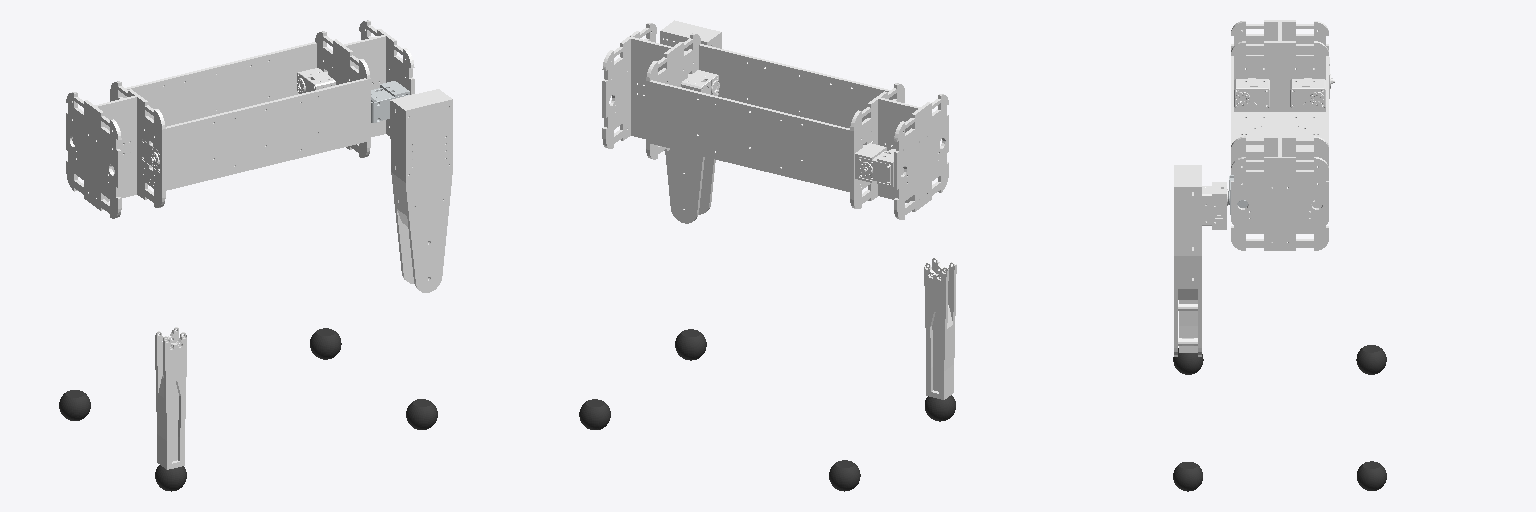
robot.urdf — hotdog:
<?xml version="1.0" encoding="utf-8"?>
<!-- This URDF was automatically created by SolidWorks to URDF Exporter! Originally created by Stephen Brawner ([email redacted]) 
     Commit Version: 1.6.0-1-g15f4949  Build Version: 1.6.7594.29634
     For more information, please see http://wiki.ros.org/sw_urdf_exporter -->
<robot
  name="hotdog">
  <link
    name="base_footprint_link">
    <inertial>
      <origin
        xyz="-6.5684535257726E-07 -5.68625826943039E-16 0.331904075260688"
        rpy="0 0 0" />
      <mass
        value="0.94714877441203" />
      <inertia
        ixx="0.00156805076680093"
        ixy="-4.04417685042527E-18"
        ixz="-1.07156180552169E-09"
        iyy="0.00467978185671069"
        iyz="1.05204051443102E-18"
        izz="0.00464373853240198" />
    </inertial>
    <visual>
      <origin
        xyz="0 0 0"
        rpy="0 0 0" />
      <geometry>
        <mesh
          filename="package://guiderobotdog_description/meshes/base_footprint_link.STL" />
      </geometry>
      <material
        name="">
        <color
          rgba="1 1 1 0.3" />
      </material>
    </visual>
    <collision>
      <origin
        xyz="0 0 0"
        rpy="0 0 0" />
      <geometry>
        <mesh
          filename="package://guiderobotdog_description/meshes/base_footprint_link.STL" />
      </geometry>
    </collision>
  </link>
  <link
    name="base_link">
    <inertial>
      <origin
        xyz="-5.37004284930829E-07 -8.85973754038104E-16 0.0331211817986433"
        rpy="0 0 0" />
      <mass
        value="1.15852013355761" />
      <inertia
        ixx="0.00161866128869471"
        ixy="-4.05306861158348E-18"
        ixz="-1.07156180552086E-09"
        iyy="0.00471344940362746"
        iyz="1.05084288143918E-18"
        izz="0.00470124275078615" />
    </inertial>
    <visual>
      <origin
        xyz="0 0 0"
        rpy="0 0 0" />
      <geometry>
        <mesh
          filename="package://guiderobotdog_description/meshes/base_link.STL" />
      </geometry>
      <material
        name="">
        <color
          rgba="1 1 1 0.3" />
      </material>
    </visual>
    <collision>
      <origin
        xyz="0 0 0"
        rpy="0 0 0" />
      <geometry>
        <mesh
          filename="package://guiderobotdog_description/meshes/base_link.STL" />
      </geometry>
    </collision>
  </link>
  <joint
    name="base_link_joint"
    type="fixed">
    <origin
      xyz="0 0 0.3"
      rpy="0 0 0" />
    <parent
      link="base_footprint_link" />
    <child
      link="base_link" />
    <axis
      xyz="0 0 0" />
  </joint>
  <link
    name="FR1_link">
    <inertial>
      <origin
        xyz="0.024784 -1.0469E-05 -2.2229E-05"
        rpy="0 0 0" />
      <mass
        value="0.067553" />
      <inertia
        ixx="1.2584E-05"
        ixy="9.7813E-08"
        ixz="-1.6315E-08"
        iyy="1.514E-05"
        iyz="-4.0759E-09"
        izz="1.7075E-05" />
    </inertial>
    <visual>
      <origin
        xyz="0 0 0"
        rpy="0 0 0" />
      <geometry>
        <mesh
          filename="package://guiderobotdog_description/meshes/FR1_link.STL" />
      </geometry>
      <material
        name="">
        <color
          rgba="0.89804 0.91765 0.92941 1" />
      </material>
    </visual>
    <collision>
      <origin
        xyz="0 0 0"
        rpy="0 0 0" />
      <geometry>
        <mesh
          filename="package://guiderobotdog_description/meshes/FR1_link.STL" />
      </geometry>
    </collision>
  </link>
  <joint
    name="motor_front_right_hip"
    type="revolute">
    <origin
      xyz="0.1579 -0.0491 0.0385"
      rpy="0 0 0" />
    <parent
      link="base_link" />
    <child
      link="FR1_link" />
    <axis
      xyz="1 0 0" />
    <limit
      lower="-1.04"
      upper="1.04"
      effort="1000"
      velocity="0.7" />
  </joint>
  <link
    name="FR2_link">
    <inertial>
      <origin
        xyz="4.3562E-06 -0.039485 -0.070702"
        rpy="0 0 0" />
      <mass
        value="0.39532" />
      <inertia
        ixx="0.0016371"
        ixy="-1.4579E-08"
        ixz="6.2884E-08"
        iyy="0.0017598"
        iyz="-2.364E-05"
        izz="0.00015914" />
    </inertial>
    <visual>
      <origin
        xyz="0 0 0"
        rpy="0 0 0" />
      <geometry>
        <mesh
          filename="package://guiderobotdog_description/meshes/FR2_link.STL" />
      </geometry>
      <material
        name="">
        <color
          rgba="1 1 1 1" />
      </material>
    </visual>
    <collision>
      <origin
        xyz="0 0 0"
        rpy="0 0 0" />
      <geometry>
        <mesh
          filename="package://guiderobotdog_description/meshes/FR2_link.STL" />
      </geometry>
    </collision>
  </link>
  <joint
    name="motor_front_right_upper_leg"
    type="revolute">
    <origin
      xyz="0.0361 -0.0233999999999976 0"
      rpy="0 0 0" />
    <parent
      link="FR1_link" />
    <child
      link="FR2_link" />
    <axis
      xyz="0 1 0" />
    <limit
      lower="-1.571"
      upper="2.59"
      effort="1000"
      velocity="0.7" />
  </joint>
  <link
    name="FR3_link">
    <inertial>
      <origin
        xyz="3.7529E-08 -0.0074017 -0.10236"
        rpy="0 0 0" />
      <mass
        value="0.090352" />
      <inertia
        ixx="0.00022227"
        ixy="1.0154E-11"
        ixz="2.7851E-10"
        iyy="0.00022376"
        iyz="1.6738E-08"
        izz="1.1523E-05" />
    </inertial>
    <visual>
      <origin
        xyz="0 0 0"
        rpy="0 0 0" />
      <geometry>
        <mesh
          filename="package://guiderobotdog_description/meshes/FR3_link.STL" />
      </geometry>
      <material
        name="">
        <color
          rgba="1 1 1 1" />
      </material>
    </visual>
    <collision>
      <origin
        xyz="0 0 0"
        rpy="0 0 0" />
      <geometry>
        <mesh
          filename="package://guiderobotdog_description/meshes/FR3_link.STL" />
      </geometry>
    </collision>
  </link>
  <joint
    name="motor_front_right_lower_leg"
    type="revolute">
    <origin
      xyz="0 -0.0413999999999994 -0.209999999999993"
      rpy="0 0 0" />
    <parent
      link="FR2_link" />
    <child
      link="FR3_link" />
    <axis
      xyz="0 -1 0" />
    <limit
      lower="-2.9"
      upper="1.671"
      effort="1000"
      velocity="0.7" />
  </joint>
  <link
    name="front_right_foot">
    <inertial>
      <origin
        xyz="-6.6613E-16 1.4433E-15 0.0015002"
        rpy="0 0 0" />
      <mass
        value="0.032571" />
      <inertia
        ixx="5.047E-06"
        ixy="-5.0734E-22"
        ixz="1.352E-22"
        iyy="5.0467E-06"
        iyz="-1.4225E-21"
        izz="5.3157E-06" />
    </inertial>
    <visual>
      <origin
        xyz="0 0 0"
        rpy="0 0 0" />
      <geometry>
        <mesh
          filename="package://guiderobotdog_description/meshes/front_right_foot.STL" />
      </geometry>
      <material
        name="">
        <color
          rgba="0.29804 0.29804 0.29804 1" />
      </material>
    </visual>
    <collision>
      <origin
        xyz="0 0 0"
        rpy="0 0 0" />
      <geometry>
        <mesh
          filename="package://guiderobotdog_description/meshes/front_right_foot.STL" />
      </geometry>
    </collision>
  </link>
  <joint
    name="front_right_leg_foot"
    type="fixed">
    <origin
      xyz="0 -0.00739999999999999 -0.198000586455477"
      rpy="0 0 0" />
    <parent
      link="FR3_link" />
    <child
      link="front_right_foot" />
    <axis
      xyz="0 0 0" />
  </joint>
  <link
    name="FL4_link">
    <inertial>
      <origin
        xyz="0.0247841447425314 1.04692997031988E-05 2.22286183791942E-05"
        rpy="0 0 0" />
      <mass
        value="0.0675532787220811" />
      <inertia
        ixx="1.25839581231577E-05"
        ixy="-9.78129344167742E-08"
        ixz="1.63152405935888E-08"
        iyy="1.5140307434958E-05"
        iyz="-4.07589457904991E-09"
        izz="1.70746458531424E-05" />
    </inertial>
    <visual>
      <origin
        xyz="0 0 0"
        rpy="0 0 0" />
      <geometry>
        <mesh
          filename="package://guiderobotdog_description/meshes/FL4_link.STL" />
      </geometry>
      <material
        name="">
        <color
          rgba="0.898039215686275 0.917647058823529 0.929411764705882 1" />
      </material>
    </visual>
    <collision>
      <origin
        xyz="0 0 0"
        rpy="0 0 0" />
      <geometry>
        <mesh
          filename="package://guiderobotdog_description/meshes/FL4_link.STL" />
      </geometry>
    </collision>
  </link>
  <joint
    name="motor_front_left_hip"
    type="revolute">
    <origin
      xyz="0.1579 0.0490999999999959 0.0387999999999899"
      rpy="0 0 0" />
    <parent
      link="base_link" />
    <child
      link="FL4_link" />
    <axis
      xyz="1 0 0" />
    <limit
      lower="-1.04"
      upper="1.04"
      effort="1000"
      velocity="0.7" />
  </joint>
  <link
    name="FL5_link">
    <inertial>
      <origin
        xyz="-4.35616069133227E-06 0.0394850128833005 -0.0707022962699911"
        rpy="0 0 0" />
      <mass
        value="0.395321397887757" />
      <inertia
        ixx="0.00163713814608113"
        ixy="-1.45788089578397E-08"
        ixz="-6.28841253115549E-08"
        iyy="0.00175975062383322"
        iyz="2.36404618665139E-05"
        izz="0.000159141442838076" />
    </inertial>
    <visual>
      <origin
        xyz="0 0 0"
        rpy="0 0 0" />
      <geometry>
        <mesh
          filename="package://guiderobotdog_description/meshes/FL5_link.STL" />
      </geometry>
      <material
        name="">
        <color
          rgba="1 1 1 1" />
      </material>
    </visual>
    <collision>
      <origin
        xyz="0 0 0"
        rpy="0 0 0" />
      <geometry>
        <mesh
          filename="package://guiderobotdog_description/meshes/FL5_link.STL" />
      </geometry>
    </collision>
  </link>
  <joint
    name="motor_front_left_upper_leg"
    type="revolute">
    <origin
      xyz="0.0360999999999954 0.0234000000000044 0"
      rpy="0 0 0" />
    <parent
      link="FL4_link" />
    <child
      link="FL5_link" />
    <axis
      xyz="0 -1 0" />
    <limit
      lower="-1.571"
      upper="2.59"
      effort="1000"
      velocity="0.7" />
  </joint>
  <link
    name="FL6_link">
    <inertial>
      <origin
        xyz="3.75285352793853E-08 0.00739826798017804 -0.102361671813913"
        rpy="0 0 0" />
      <mass
        value="0.0903520455444552" />
      <inertia
        ixx="0.000222269756294016"
        ixy="1.01536103196166E-11"
        ixz="2.78508257222559E-10"
        iyy="0.000223759447255601"
        iyz="1.67376488552958E-08"
        izz="1.15226778599831E-05" />
    </inertial>
    <visual>
      <origin
        xyz="0 0 0"
        rpy="0 0 0" />
      <geometry>
        <mesh
          filename="package://guiderobotdog_description/meshes/FL6_link.STL" />
      </geometry>
      <material
        name="">
        <color
          rgba="1 1 1 1" />
      </material>
    </visual>
    <collision>
      <origin
        xyz="0 0 0"
        rpy="0 0 0" />
      <geometry>
        <mesh
          filename="package://guiderobotdog_description/meshes/FL6_link.STL" />
      </geometry>
    </collision>
  </link>
  <joint
    name="motor_front_left_lower_leg"
    type="revolute">
    <origin
      xyz="0 0.0414000000000007 -0.209999999999995"
      rpy="0 0 0" />
    <parent
      link="FL5_link" />
    <child
      link="FL6_link" />
    <axis
      xyz="0 1 0" />
    <limit
      lower="-2.9"
      upper="1.671"
      effort="1000"
      velocity="0.7" />
  </joint>
  <link
    name="front_left_foot">
    <inertial>
      <origin
        xyz="2.77555756156289E-17 3.60822483003176E-16 0.00150018449078348"
        rpy="0 0 0" />
      <mass
        value="0.0325711189299211" />
      <inertia
        ixx="5.04695257424751E-06"
        ixy="-4.8959115759098E-24"
        ixz="-1.98212390450565E-21"
        iyy="5.04670813748758E-06"
        iyz="6.91248630705877E-22"
        izz="5.31572382785122E-06" />
    </inertial>
    <visual>
      <origin
        xyz="0 0 0"
        rpy="0 0 0" />
      <geometry>
        <mesh
          filename="package://guiderobotdog_description/meshes/front_left_foot.STL" />
      </geometry>
      <material
        name="">
        <color
          rgba="0.298039215686275 0.298039215686275 0.298039215686275 1" />
      </material>
    </visual>
    <collision>
      <origin
        xyz="0 0 0"
        rpy="0 0 0" />
      <geometry>
        <mesh
          filename="package://guiderobotdog_description/meshes/front_left_foot.STL" />
      </geometry>
    </collision>
  </link>
  <joint
    name="front_left_leg_foot"
    type="fixed">
    <origin
      xyz="0 0.00740000000000136 -0.198000586455477"
      rpy="0 0 0" />
    <parent
      link="FL6_link" />
    <child
      link="front_left_foot" />
    <axis
      xyz="0 0 0" />
  </joint>
  <link
    name="RR7_link">
    <inertial>
      <origin
        xyz="-0.0236063085699754 0.000631885494629253 6.84388656857493E-12"
        rpy="0 0 0" />
      <mass
        value="0.073619269309767" />
      <inertia
        ixx="1.46576594061014E-05"
        ixy="4.64656371603288E-08"
        ixz="-3.57441089268569E-08"
        iyy="1.73197677200056E-05"
        iyz="3.92112851912774E-10"
        izz="1.81046682669036E-05" />
    </inertial>
    <visual>
      <origin
        xyz="0 0 0"
        rpy="0 0 0" />
      <geometry>
        <mesh
          filename="package://guiderobotdog_description/meshes/RR7_link.STL" />
      </geometry>
      <material
        name="">
        <color
          rgba="1 1 1 1" />
      </material>
    </visual>
    <collision>
      <origin
        xyz="0 0 0"
        rpy="0 0 0" />
      <geometry>
        <mesh
          filename="package://guiderobotdog_description/meshes/RR7_link.STL" />
      </geometry>
    </collision>
  </link>
  <joint
    name="motor_back_right_hip"
    type="revolute">
    <origin
      xyz="-0.157900000000004 -0.0491000000000027 0.0384999999999962"
      rpy="0 0 0" />
    <parent
      link="base_link" />
    <child
      link="RR7_link" />
    <axis
      xyz="-1 0 0" />
    <limit
      lower="-1.04"
      upper="1.04"
      effort="1000"
      velocity="0.7" />
  </joint>
  <link
    name="RR8_link">
    <inertial>
      <origin
        xyz="4.35616069077716E-06 -0.0394850128832991 -0.0707022962699928"
        rpy="0 0 0" />
      <mass
        value="0.395321397887757" />
      <inertia
        ixx="0.00163713814608113"
        ixy="-1.45788089571798E-08"
        ixz="6.28841253106135E-08"
        iyy="0.00175975062383322"
        iyz="-2.36404618665226E-05"
        izz="0.000159141442838076" />
    </inertial>
    <visual>
      <origin
        xyz="0 0 0"
        rpy="0 0 0" />
      <geometry>
        <mesh
          filename="package://guiderobotdog_description/meshes/RR8_link.STL" />
      </geometry>
      <material
        name="">
        <color
          rgba="1 1 1 1" />
      </material>
    </visual>
    <collision>
      <origin
        xyz="0 0 0"
        rpy="0 0 0" />
      <geometry>
        <mesh
          filename="package://guiderobotdog_description/meshes/RR8_link.STL" />
      </geometry>
    </collision>
  </link>
  <joint
    name="motor_back_right_upper_leg"
    type="revolute">
    <origin
      xyz="-0.0128499999999998 -0.0230999999999985 0"
      rpy="0 0 0" />
    <parent
      link="RR7_link" />
    <child
      link="RR8_link" />
    <axis
      xyz="0 1 0" />
    <limit
      lower="-1.571"
      upper="2.59"
      effort="1000"
      velocity="0.7" />
  </joint>
  <link
    name="RR9_link">
    <inertial>
      <origin
        xyz="3.75285321152496E-08 -0.00740173201982233 -0.102361671813917"
        rpy="0 0 0" />
      <mass
        value="0.0903520455444551" />
      <inertia
        ixx="0.000222269756294015"
        ixy="1.01536103203937E-11"
        ixz="2.78508257250272E-10"
        iyy="0.0002237594472556"
        iyz="1.67376488552685E-08"
        izz="1.15226778599831E-05" />
    </inertial>
    <visual>
      <origin
        xyz="0 0 0"
        rpy="0 0 0" />
      <geometry>
        <mesh
          filename="package://guiderobotdog_description/meshes/RR9_link.STL" />
      </geometry>
      <material
        name="">
        <color
          rgba="1 1 1 1" />
      </material>
    </visual>
    <collision>
      <origin
        xyz="0 0 0"
        rpy="0 0 0" />
      <geometry>
        <mesh
          filename="package://guiderobotdog_description/meshes/RR9_link.STL" />
      </geometry>
    </collision>
  </link>
  <joint
    name="motor_back_right_lower_leg"
    type="revolute">
    <origin
      xyz="0 -0.0413999999999989 -0.209999999999994"
      rpy="0 0 0" />
    <parent
      link="RR8_link" />
    <child
      link="RR9_link" />
    <axis
      xyz="0 -1 0" />
    <limit
      lower="-2.9"
      upper="1.671"
      effort="1000"
      velocity="0.7" />
  </joint>
  <link
    name="back_right_foot">
    <inertial>
      <origin
        xyz="-7.11097847272413E-14 0.0 0.00150018449077555"
        rpy="0 0 0" />
      <mass
        value="0.032571118929921" />
      <inertia
        ixx="5.0469525742475E-06"
        ixy="2.1327978782839E-21"
        ixz="-1.6668475799677E-21"
        iyy="5.04670813748758E-06"
        iyz="-1.71150747579276E-21"
        izz="5.31572382785121E-06" />
    </inertial>
    <visual>
      <origin
        xyz="0 0.0 0"
        rpy="0 0 0" />
      <geometry>
        <mesh
          filename="package://guiderobotdog_description/meshes/front_right_foot.STL" />
      </geometry>
      <material
        name="">
        <color
          rgba="0.298039215686275 0.298039215686275 0.298039215686275 1" />
      </material>
    </visual>
    <collision>
      <origin
        xyz="0 0.0 0"
        rpy="0 0 0" />
      <geometry>
        <mesh
          filename="package://guiderobotdog_description/meshes/front_right_foot.STL" />
      </geometry>
    </collision>
  </link>
  <joint
    name="back_right_leg_foot"
    type="fixed">
    <origin
      xyz="0 -0.0074 -0.198000586455473"
      rpy="0 0 0" />
    <parent
      link="RR9_link" />
    <child
      link="back_right_foot" />
    <axis
      xyz="0 0 0" />
  </joint>
  <link
    name="RL10_link">
    <inertial>
      <origin
        xyz="-0.0236063085699692 -0.00063188549463164 -6.82938428031576E-12"
        rpy="0 0 0" />
      <mass
        value="0.073619269309767" />
      <inertia
        ixx="1.46576594061014E-05"
        ixy="-4.64656371603235E-08"
        ixz="3.57441089268562E-08"
        iyy="1.73197677200056E-05"
        iyz="3.92112851920474E-10"
        izz="1.81046682669036E-05" />
    </inertial>
    <visual>
      <origin
        xyz="0 0 0"
        rpy="0 0 0" />
      <geometry>
        <mesh
          filename="package://guiderobotdog_description/meshes/RL10_link.STL" />
      </geometry>
      <material
        name="">
        <color
          rgba="1 1 1 1" />
      </material>
    </visual>
    <collision>
      <origin
        xyz="0 0 0"
        rpy="0 0 0" />
      <geometry>
        <mesh
          filename="package://guiderobotdog_description/meshes/RL10_link.STL" />
      </geometry>
    </collision>
  </link>
  <joint
    name="motor_back_left_hip"
    type="revolute">
    <origin
      xyz="-0.157900000000008 0.0491000000000026 0.0384999999999878"
      rpy="0 0 0" />
    <parent
      link="base_link" />
    <child
      link="RL10_link" />
    <axis
      xyz="-1 0 0" />
    <limit
      lower="-1.04"
      upper="1.04"
      effort="1000"
      velocity="0.7" />
  </joint>
  <link
    name="RL11_link">
    <inertial>
      <origin
        xyz="-4.35616068608646E-06 0.0394850128832992 -0.0707022962699932"
        rpy="0 0 0" />
      <mass
        value="0.395321397887756" />
      <inertia
        ixx="0.00163713814608113"
        ixy="-1.45788089564926E-08"
        ixz="-6.28841253096486E-08"
        iyy="0.00175975062383321"
        iyz="2.364046186652E-05"
        izz="0.000159141442838075" />
    </inertial>
    <visual>
      <origin
        xyz="0 0 0"
        rpy="0 0 0" />
      <geometry>
        <mesh
          filename="package://guiderobotdog_description/meshes/RL11_link.STL" />
      </geometry>
      <material
        name="">
        <color
          rgba="1 1 1 0.3" />
      </material>
    </visual>
    <collision>
      <origin
        xyz="0 0 0"
        rpy="0 0 0" />
      <geometry>
        <mesh
          filename="package://guiderobotdog_description/meshes/RL11_link.STL" />
      </geometry>
    </collision>
  </link>
  <joint
    name="motor_back_left_upper_leg"
    type="revolute">
    <origin
      xyz="-0.0128500000000024 0.0230999999999986 0"
      rpy="0 0 0" />
    <parent
      link="RL10_link" />
    <child
      link="RL11_link" />
    <axis
      xyz="0 -1 0" />
    <limit
      lower="-1.571"
      upper="2.59"
      effort="1000"
      velocity="0.7" />
  </joint>
  <link
    name="RL12_link">
    <inertial>
      <origin
        xyz="3.75285400533443E-08 0.00739826798017364 -0.10236167181392"
        rpy="0 0 0" />
      <mass
        value="0.090352045544455" />
      <inertia
        ixx="0.000222269756294015"
        ixy="1.01536103178863E-11"
        ixz="2.78508257228715E-10"
        iyy="0.0002237594472556"
        iyz="1.67376488553293E-08"
        izz="1.15226778599831E-05" />
    </inertial>
    <visual>
      <origin
        xyz="0 0 0"
        rpy="0 0 0" />
      <geometry>
        <mesh
          filename="package://guiderobotdog_description/meshes/RL12_link.STL" />
      </geometry>
      <material
        name="">
        <color
          rgba="1 1 1 1" />
      </material>
    </visual>
    <collision>
      <origin
        xyz="0 0 0"
        rpy="0 0 0" />
      <geometry>
        <mesh
          filename="package://guiderobotdog_description/meshes/RL12_link.STL" />
      </geometry>
    </collision>
  </link>
  <joint
    name="motor_back_left_lower_leg"
    type="revolute">
    <origin
      xyz="0 0.0414000000000018 -0.209999999999994"
      rpy="0 0 0" />
    <parent
      link="RL11_link" />
    <child
      link="RL12_link" />
    <axis
      xyz="0 1 0" />
    <limit
      lower="-2.9"
      upper="1.671"
      effort="1000"
      velocity="0.7" />
  </joint>
  <link
    name="back_left_foot">
    <inertial>
      <origin
        xyz="4.6074255521944E-15 -4.7045700668491E-15 0.00150018449077621"
        rpy="0 0 0" />
      <mass
        value="0.0325711189299211" />
      <inertia
        ixx="5.04695257424751E-06"
        ixy="3.22003305032137E-22"
        ixz="-6.305518543915E-22"
        iyy="5.04670813748758E-06"
        iyz="9.63773792640485E-22"
        izz="5.31572382785122E-06" />
    </inertial>
    <visual>
      <origin
        xyz="0 0 0"
        rpy="0 0 0" />
      <geometry>
        <mesh
          filename="package://guiderobotdog_description/meshes/back_left_foot.STL" />
      </geometry>
      <material
        name="">
        <color
          rgba="0.298039215686275 0.298039215686275 0.298039215686275 1" />
      </material>
    </visual>
    <collision>
      <origin
        xyz="0 0 0"
        rpy="0 0 0" />
      <geometry>
        <mesh
          filename="package://guiderobotdog_description/meshes/back_left_foot.STL" />
      </geometry>
    </collision>
  </link>
  <joint
    name="back_left_leg_foot"
    type="fixed">
    <origin
      xyz="0 0.00739999999999999 -0.198000586455477"
      rpy="0 0 0" />
    <parent
      link="RL12_link" />
    <child
      link="back_left_foot" />
    <axis
      xyz="0 0 0" />
  </joint>
</robot>

--- What the picture shows (computed from the rendered views, not written in the file) ---
The picture shows the robot from 3 angles, left to right: view 1: azimuth 30°, elevation 25°; view 2: azimuth 150°, elevation 25°; view 3: azimuth 270°, elevation 25°; orthographic projection.
Robot: hotdog — 18 links, 17 joints (12 revolute, 5 fixed); root link base_footprint_link; default pose: all joints at 0.
Links seen in each view (by area): view 1: base_link, FR2_link, RR9_link, FR1_link, back_left_foot, front_left_foot, front_right_foot, back_right_foot; view 2: base_link, RR9_link, FR2_link, RL10_link, front_right_foot, front_left_foot, back_left_foot, back_right_foot; view 3: base_link, FR2_link, RR9_link, back_left_foot, front_left_foot, front_right_foot, back_right_foot.
Boxes of the visible links, x1,y1,x2,y2 form: base_link: (66,20,414,218); FR2_link: (390,89,452,292); RR9_link: (155,327,186,469); FR1_link: (371,81,409,122); back_left_foot: (59,390,90,420); front_left_foot: (310,328,341,359); front_right_foot: (406,399,437,429); back_right_foot: (155,465,186,491); base_link: (602,23,948,219); RR9_link: (924,258,956,399); FR2_link: (660,20,721,223); RL10_link: (855,143,903,187); front_right_foot: (675,329,706,360); front_left_foot: (579,399,610,429); back_left_foot: (829,460,860,491); back_right_foot: (925,395,955,421); base_link: (1231,20,1328,250); FR2_link: (1174,165,1227,356); RR9_link: (1179,300,1197,352); back_left_foot: (1356,345,1386,374); front_left_foot: (1357,461,1386,490); front_right_foot: (1173,462,1202,491); back_right_foot: (1173,348,1203,374).
Bounding box of the posed robot: 0.4439 × 0.2825 × 0.4938 m (x, y, z).
Meshes: 17 distinct files referenced, 9 mesh visuals loaded (8 binary STL); not drawn: 9 (reference not matched to a file when rendering).
